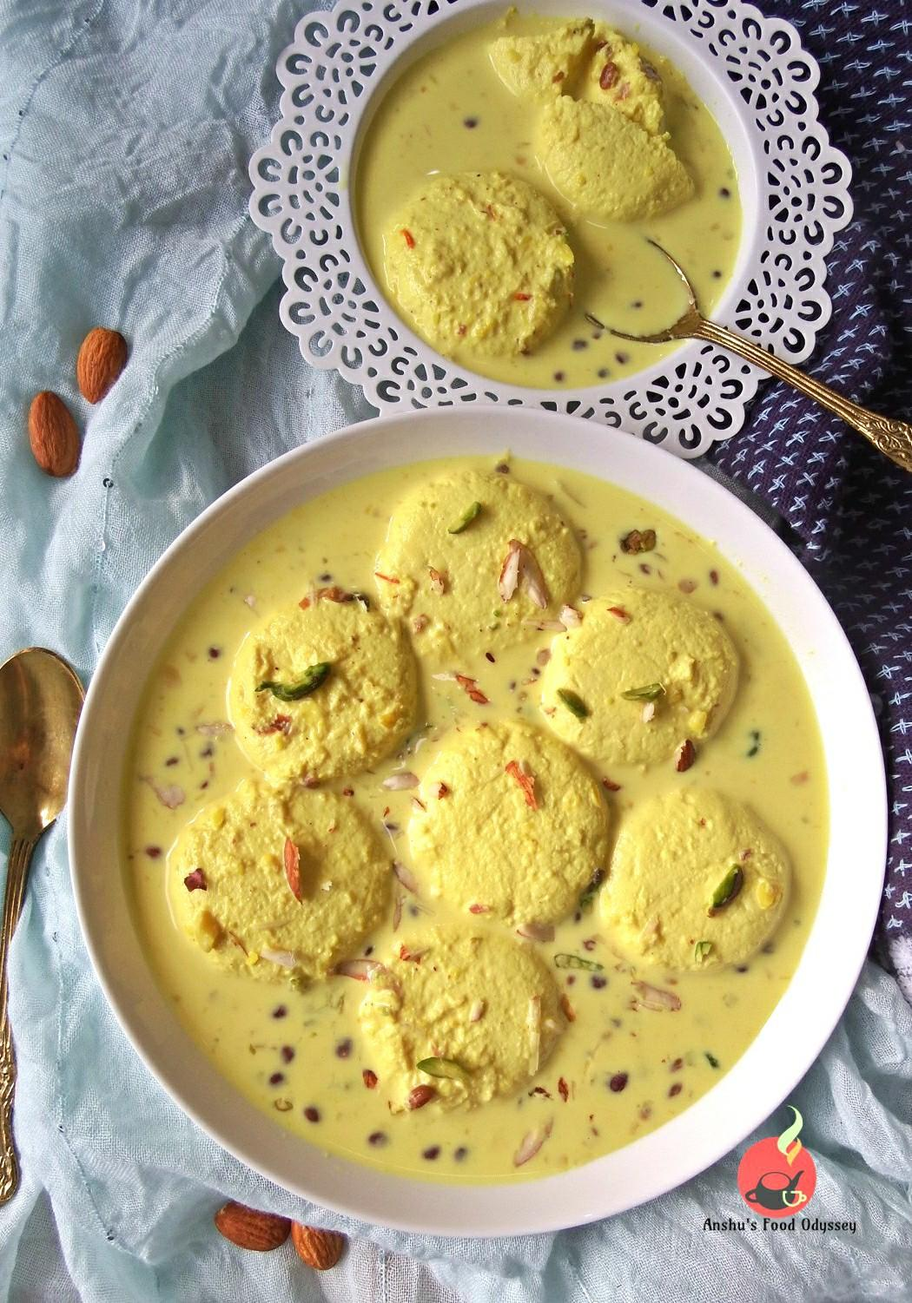RasMalai: (128, 464, 827, 1168), (348, 14, 739, 390)
